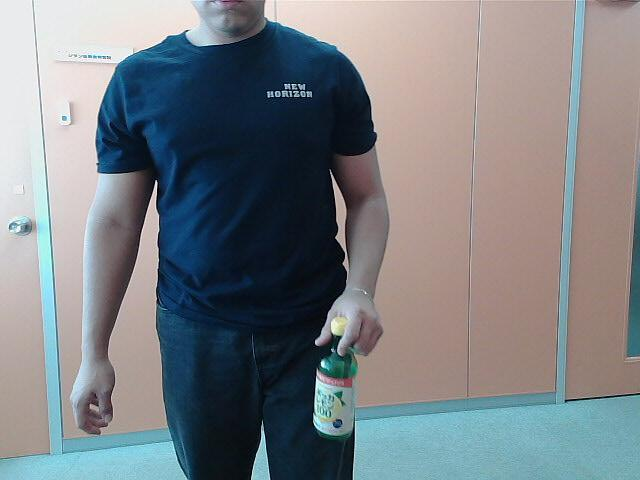Lemon_sapporo: (312, 315, 358, 446)
